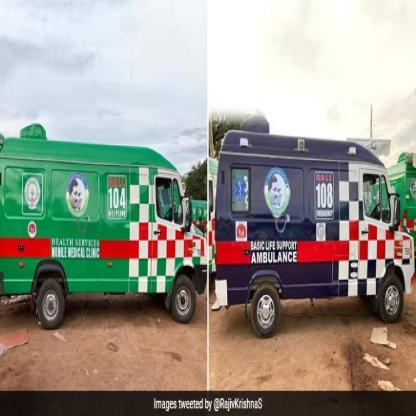priority: (214, 110, 416, 338), (1, 124, 207, 327)
